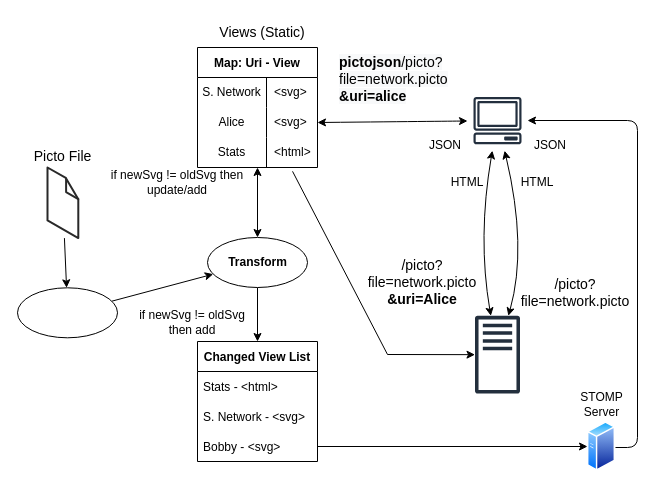
Some shapes in this 663 by 488 pixel diagram are drawn without their labels. Each missing label, with the centre of its shape:
Client: (497,120)
Modify (Bob to Bobby): (67,312)
Server: (497,354)
